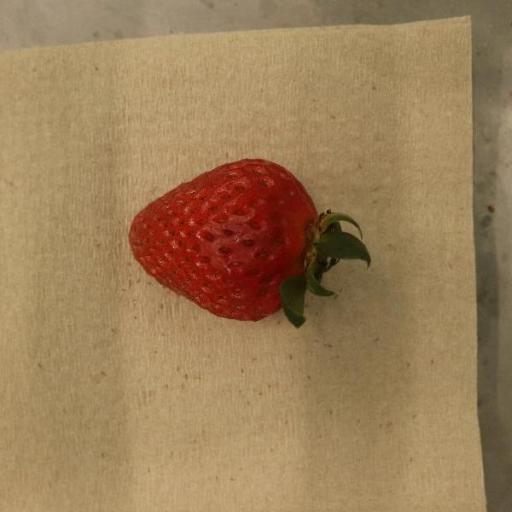Strawberry: (127, 159, 371, 329)
